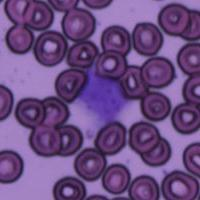M: (76, 70, 132, 124)
